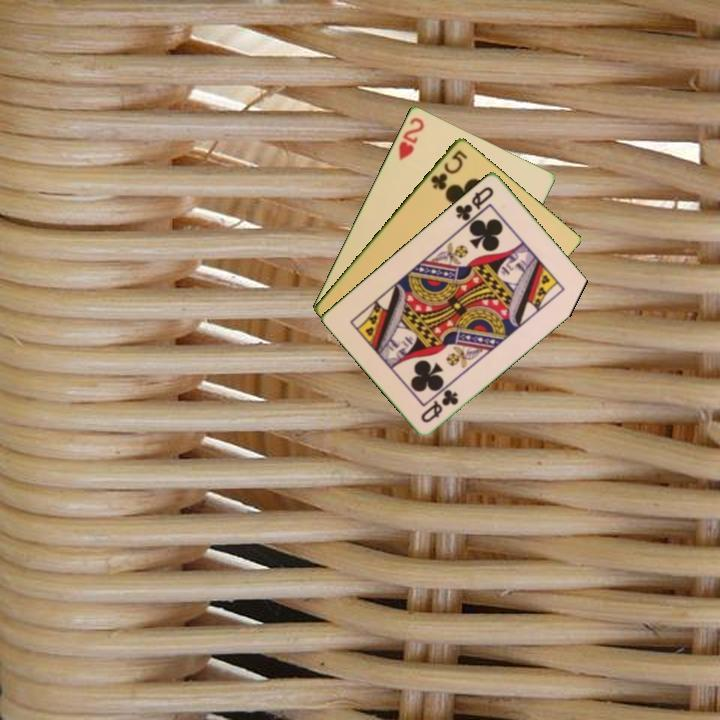2h: (395, 113, 427, 163)
5c: (427, 146, 470, 193)
Qc: (452, 182, 497, 224), (417, 385, 462, 425)
